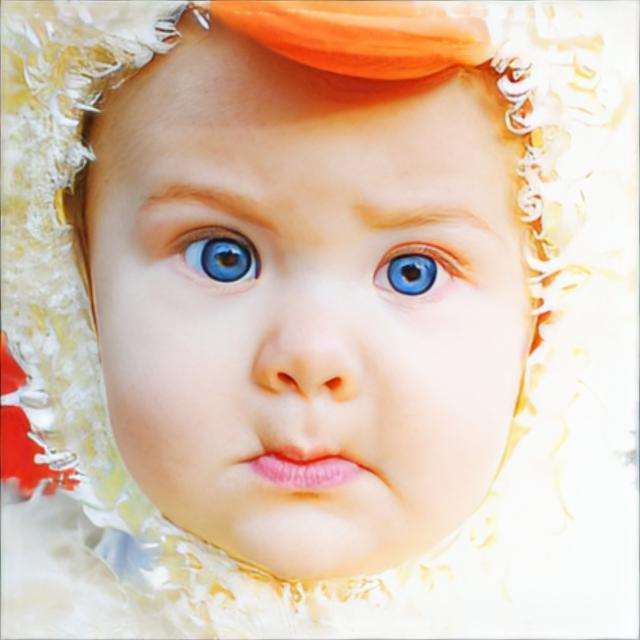sad: (85, 13, 528, 589)
